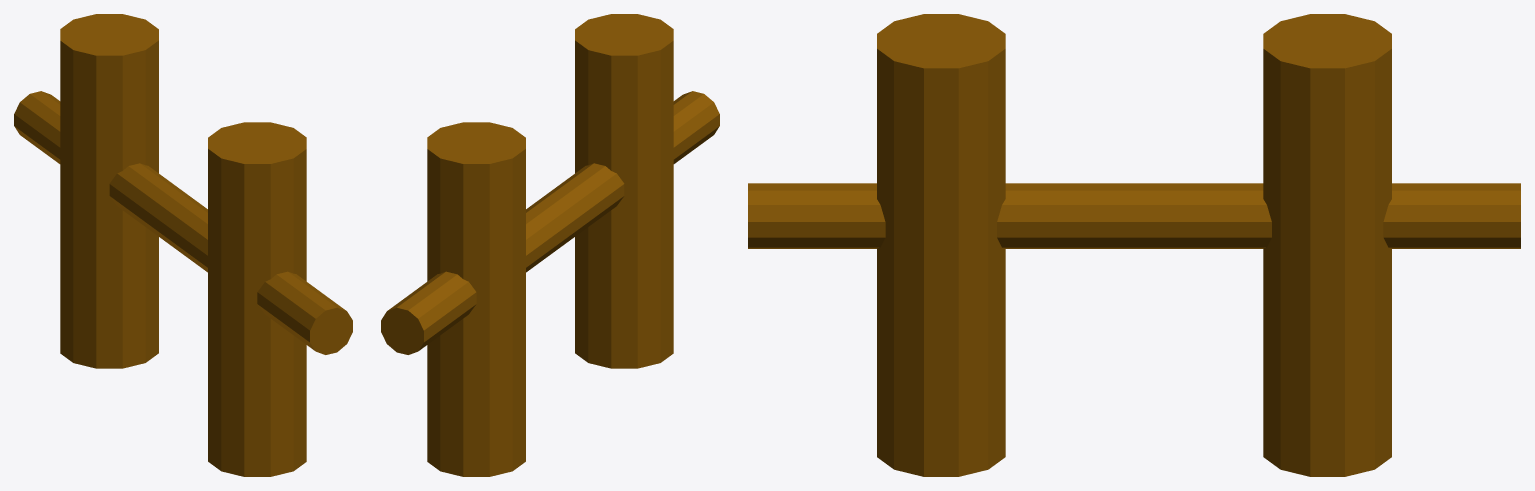
Rendered from Fence.fbx.
3 renders of one model, left to right at view 1: azimuth 30°, elevation 25°; view 2: azimuth 150°, elevation 25°; view 3: azimuth 270°, elevation 25°, orthographic. The views are drawn at different scales.
Parts seen in each view (by area): view 1: cylinder_1, cylinder, cylinder_2; view 2: cylinder, cylinder_1, cylinder_2; view 3: cylinder, cylinder_1, cylinder_2.
Part boxes in pixels (bbox=[...]): cylinder_1: bbox=[208, 122, 306, 476]; cylinder: bbox=[60, 14, 158, 368]; cylinder_2: bbox=[14, 91, 352, 354]; cylinder: bbox=[427, 122, 525, 476]; cylinder_1: bbox=[575, 14, 673, 368]; cylinder_2: bbox=[381, 91, 719, 354]; cylinder: bbox=[1263, 14, 1391, 476]; cylinder_1: bbox=[877, 14, 1005, 476]; cylinder_2: bbox=[748, 183, 1520, 248].
Size of the model in its own units: 25 by 87.5 by 150.
Materials: 1 (1 with a texture image).
